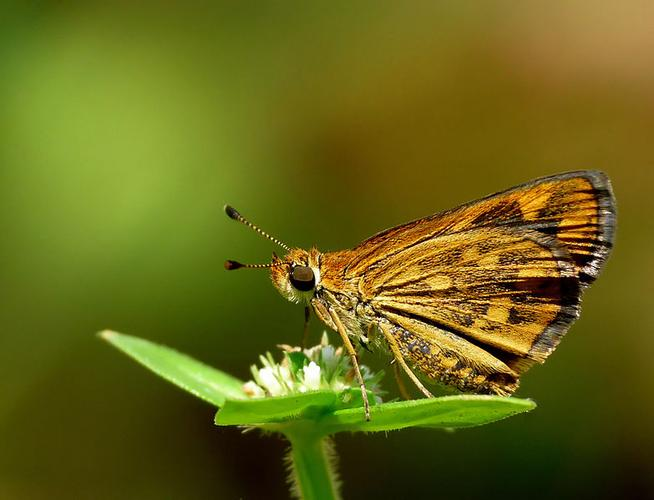Hesperiidae: (218, 169, 622, 414)
